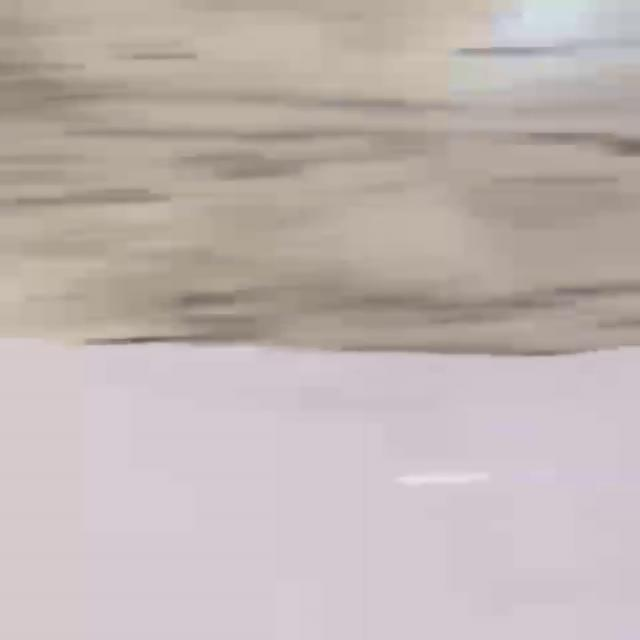road: (1, 339, 640, 640)
